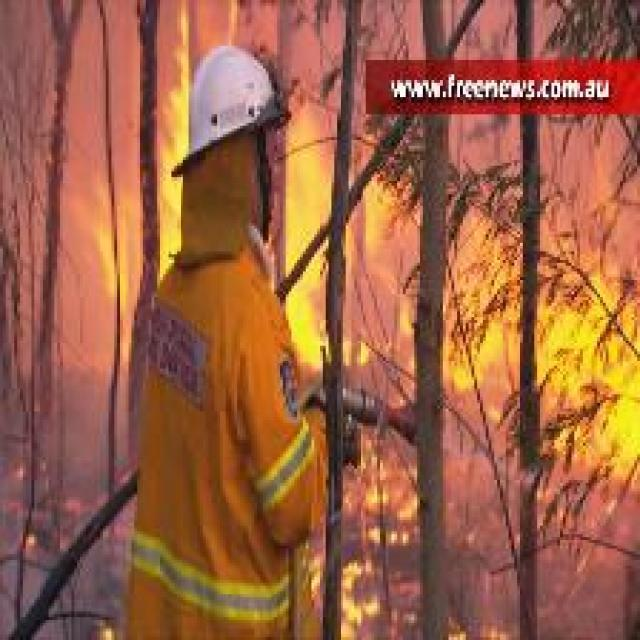Fire: (446, 214, 638, 489), (287, 99, 373, 368)
